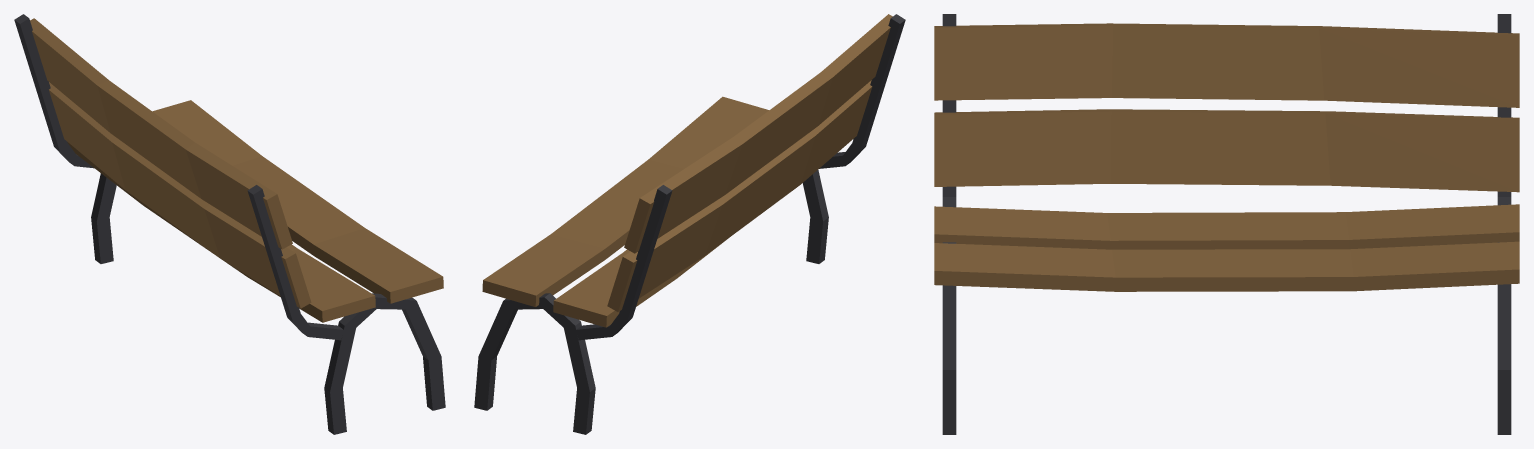
The model's file is bench1.fbx.
The picture shows the model from 3 angles, left to right: view 1: azimuth 30°, elevation 25°; view 2: azimuth 150°, elevation 25°; view 3: azimuth 270°, elevation 25°; orthographic projection. The views are drawn at different scales.
Parts seen in each view (by area): view 1: bench1; view 2: bench1; view 3: bench1.
Part boxes in pixels (<box>): bench1: <box>14,14,445,434</box>; bench1: <box>474,14,905,434</box>; bench1: <box>934,14,1519,434</box>.
Bounding box in the file's own units: 151 × 197 × 334.
